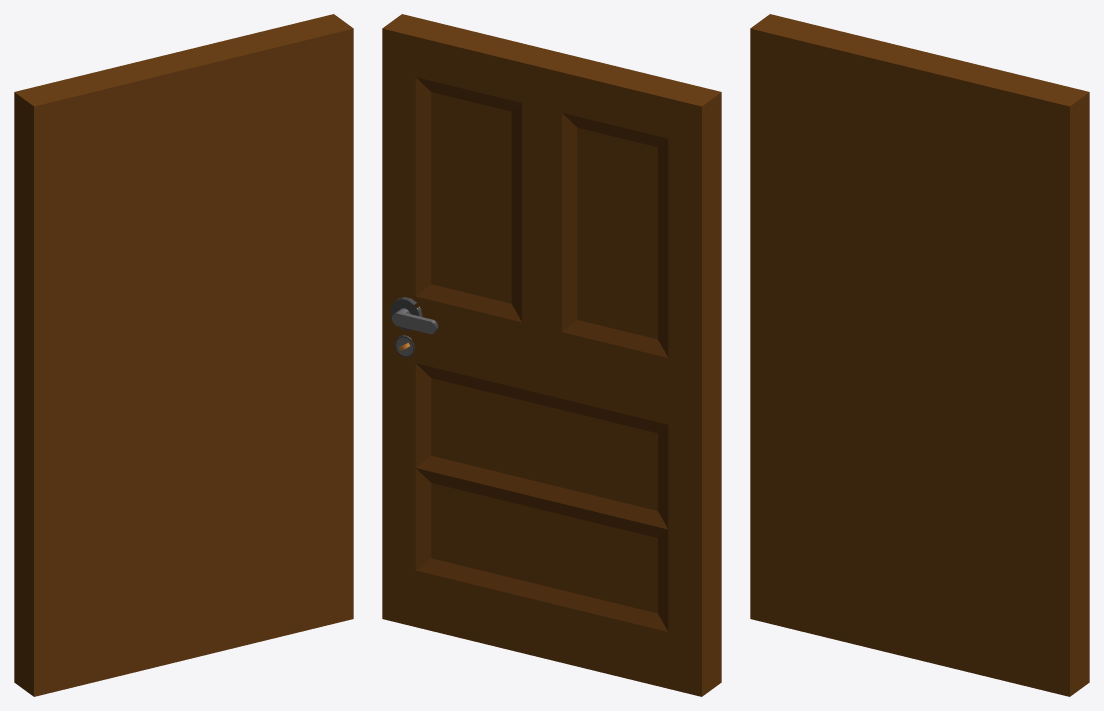
Rendered from DoorwithLock.fbx.
3 renders of one model, left to right at view 1: azimuth 30°, elevation 25°; view 2: azimuth 150°, elevation 25°; view 3: azimuth 330°, elevation 25°, orthographic.
Parts seen in each view (by area): view 1: Cube.078; view 2: Cube.078; view 3: Cube.078.
Part boxes in pixels (left/top/right/bottom): Cube.078: left=14, top=14, right=353, bottom=696; Cube.078: left=382, top=14, right=721, bottom=696; Cube.078: left=750, top=14, right=1089, bottom=696.
Size of the model in its own units: 129 by 228 by 20.97.
